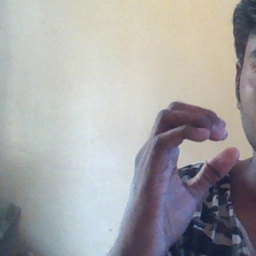C: (142, 98, 241, 212)
